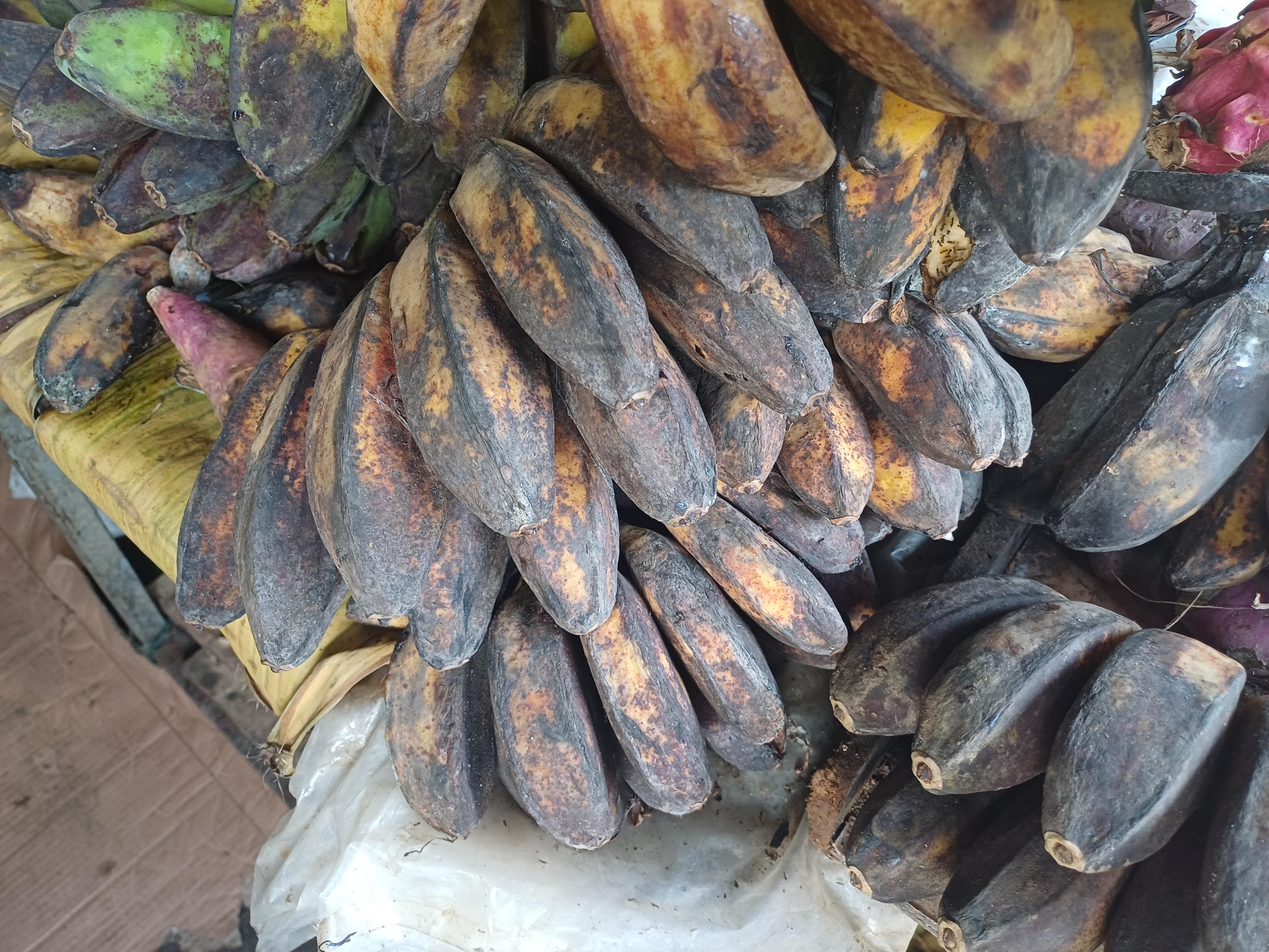overripe: (178, 74, 883, 670), (386, 472, 877, 849), (829, 576, 1269, 952), (827, 0, 1152, 312), (983, 290, 1269, 590), (700, 292, 1032, 539)
underripe: (13, 7, 456, 271), (230, 0, 528, 185)
